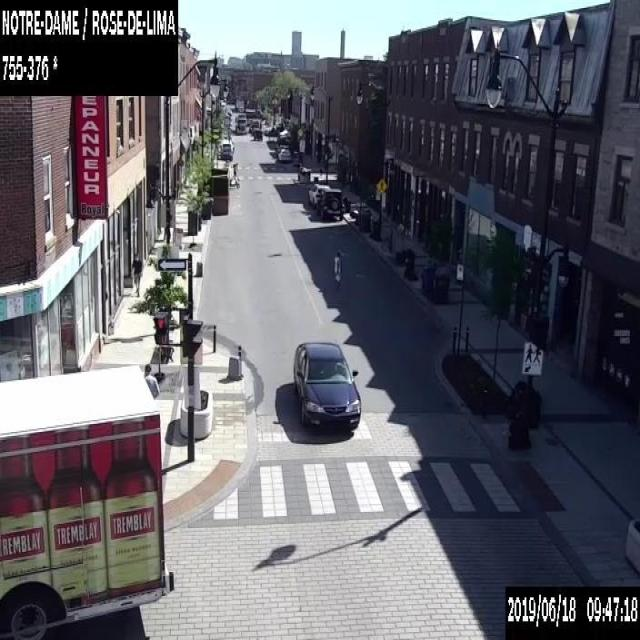pedestrian: (130, 252, 142, 296), (144, 363, 159, 397), (333, 252, 340, 283), (163, 223, 170, 244), (231, 162, 237, 176)
vehicle: (0, 362, 173, 638), (292, 341, 360, 431), (316, 188, 342, 216), (307, 182, 330, 205), (218, 139, 234, 160), (234, 112, 247, 134), (248, 118, 261, 133), (277, 148, 290, 159), (252, 127, 262, 140)
